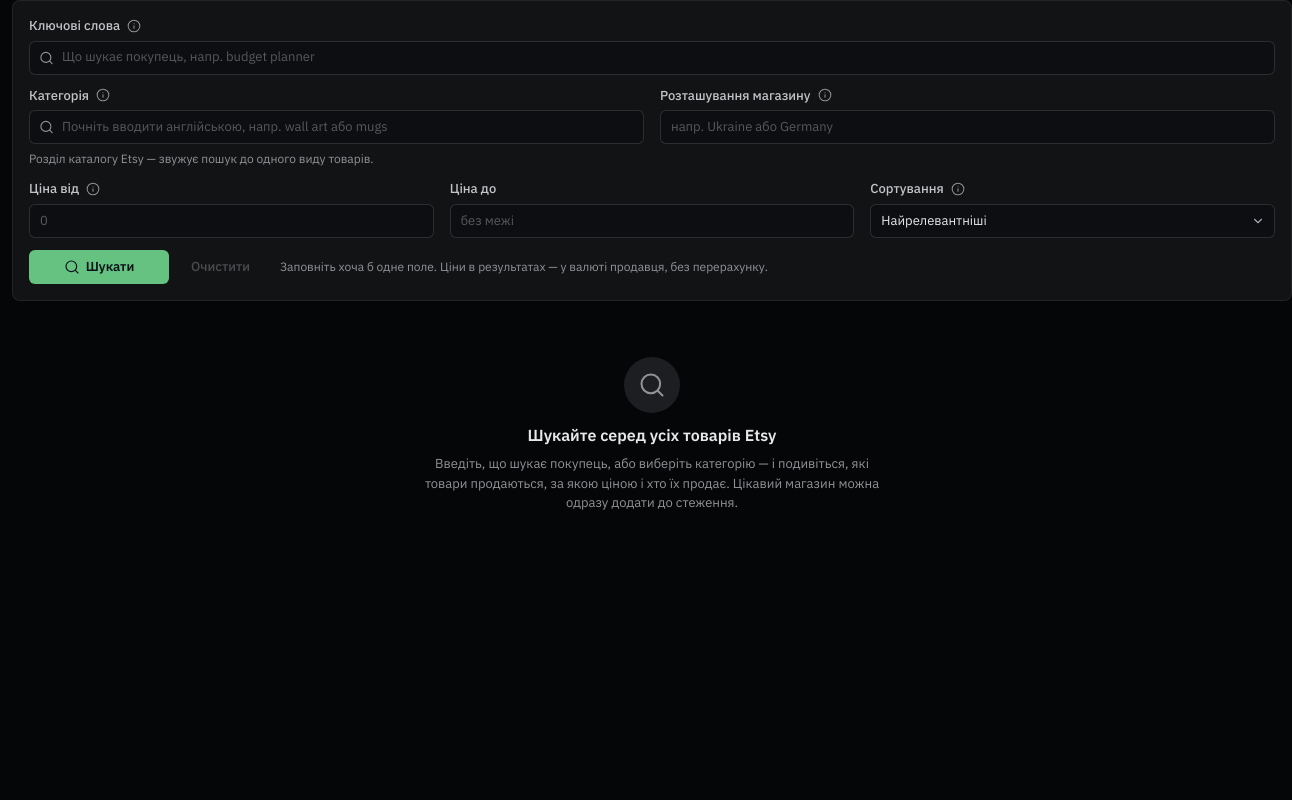
Test: Пошук по всьому Etsy › a price range alone: the hint says the sort needs a search option; an unsorted answer says so
expect the text "Заповніть хоча б одне поле. Ціни в результатах — у валюті продавця, без перерахунку." is shown: met, box [280, 259, 768, 274]
Type "20" into the number field labelled "Ціна до".
click(652, 221); type("20")  # box [450, 204, 854, 238]
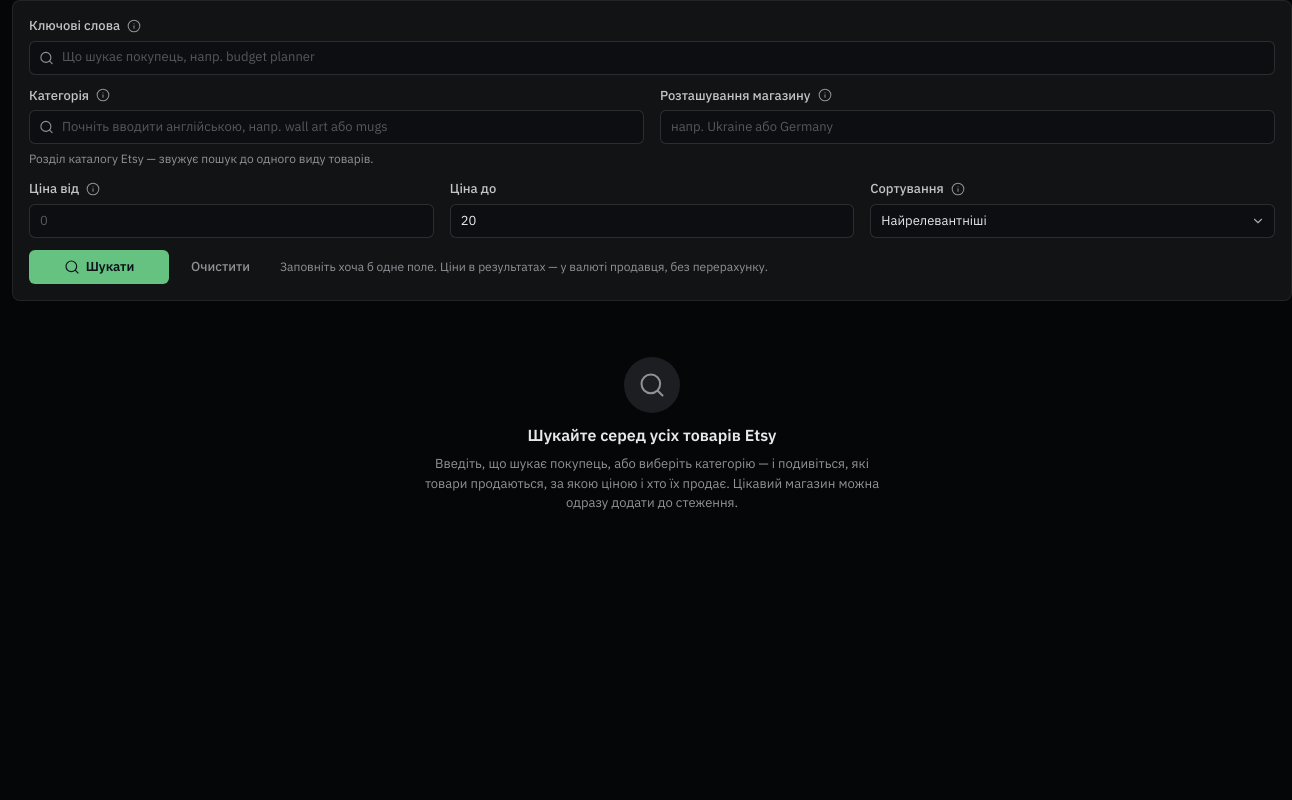
Click the button "Шукати".
click(99, 267)  # box [29, 250, 169, 284]
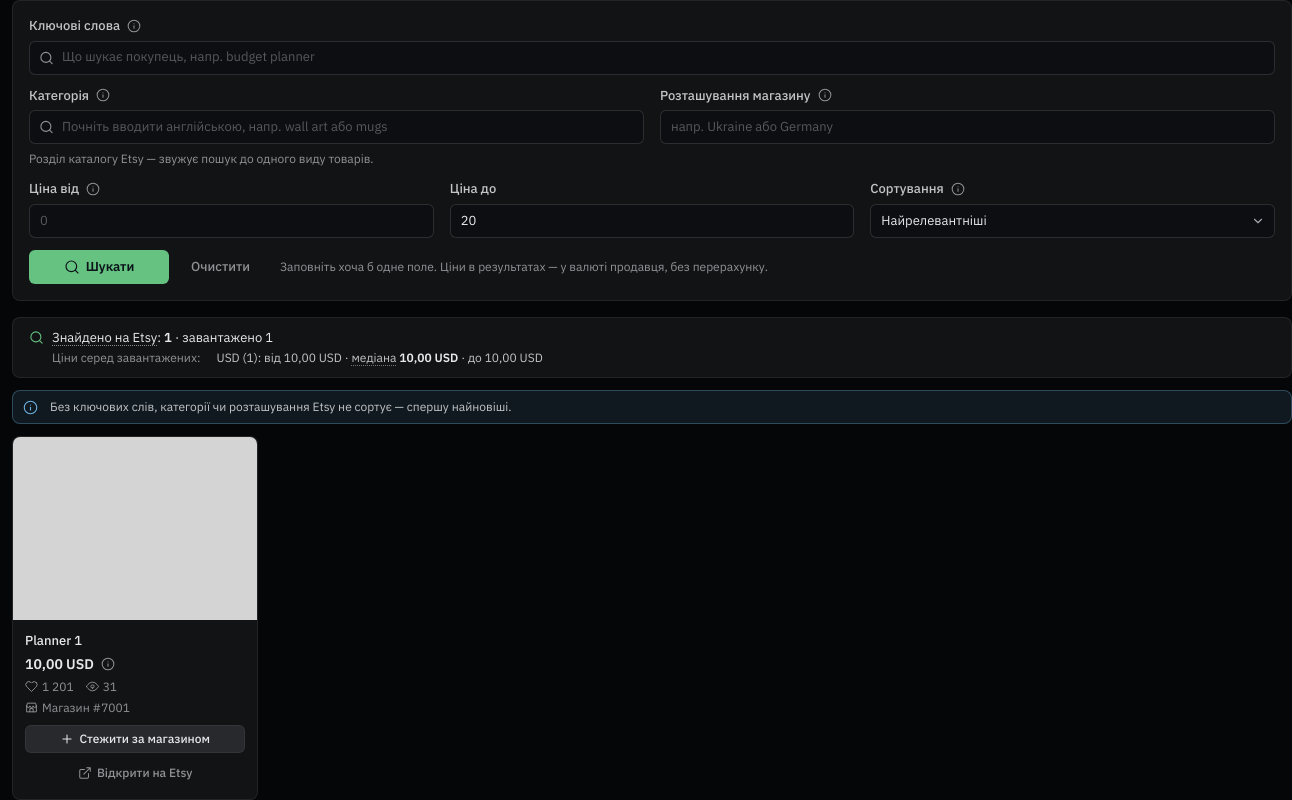
expect the text "Без ключових слів, категорії чи розташування Etsy не сортує — спершу найновіші." is shown: met, box [50, 399, 512, 414]
